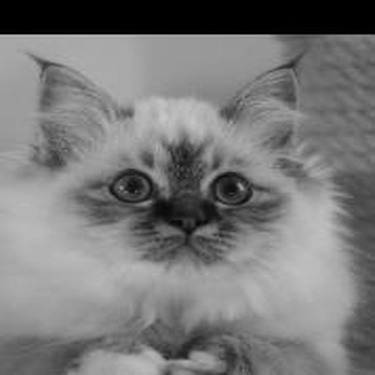cat: (30, 51, 371, 371)
